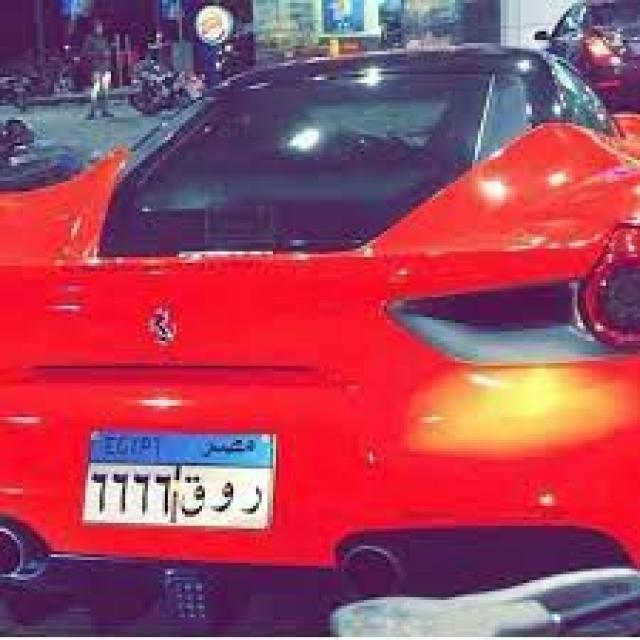car-plate: (87, 436, 268, 525)
